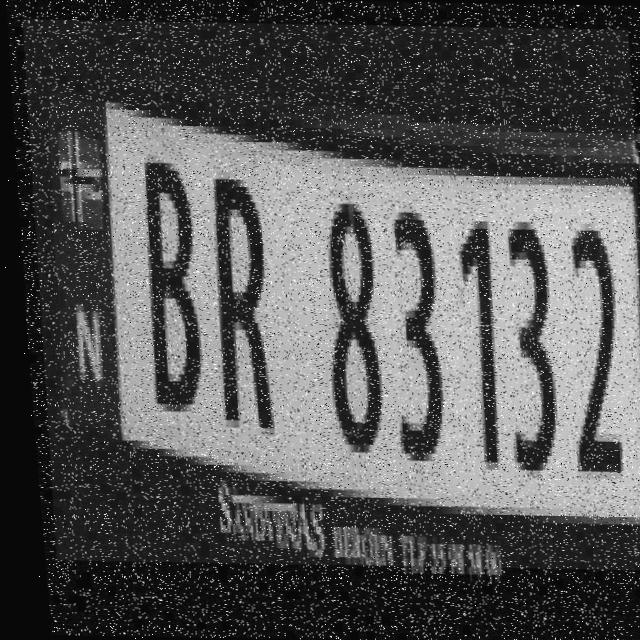LicensePlate: (12, 19, 640, 570)
